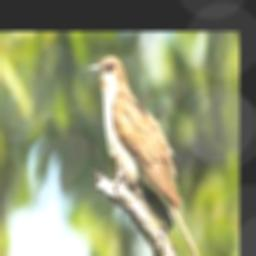Cuckoo: (86, 55, 214, 256)
